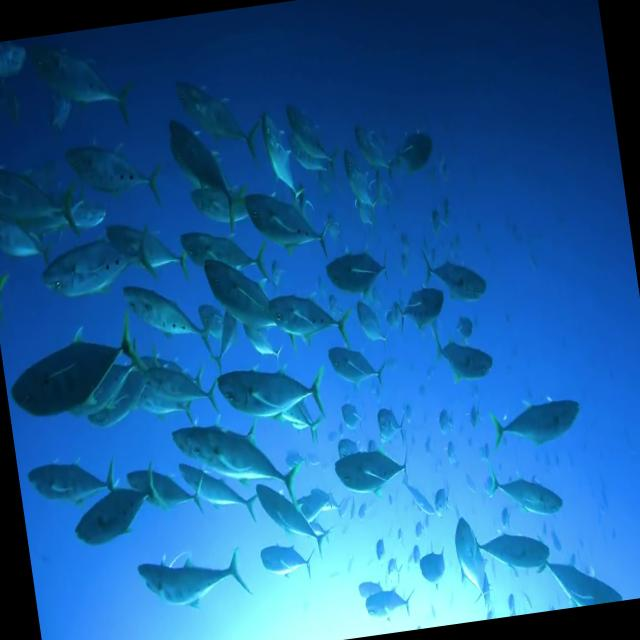fish: (0, 323, 142, 423), (170, 414, 296, 504), (170, 70, 266, 176), (203, 252, 300, 356), (39, 227, 161, 303), (169, 116, 251, 226), (34, 36, 131, 127), (70, 468, 172, 550), (216, 356, 330, 429), (137, 546, 253, 616), (121, 272, 215, 357), (66, 142, 168, 216), (0, 154, 84, 242), (106, 208, 192, 290), (178, 451, 256, 529), (268, 288, 356, 352), (489, 398, 584, 456), (256, 480, 326, 556), (488, 460, 566, 528), (28, 455, 117, 512), (260, 110, 310, 208), (417, 241, 487, 307), (432, 317, 496, 386), (333, 447, 413, 502), (476, 522, 552, 578), (290, 99, 340, 179), (326, 338, 390, 393), (324, 248, 394, 294), (391, 284, 450, 334), (260, 541, 314, 581)
